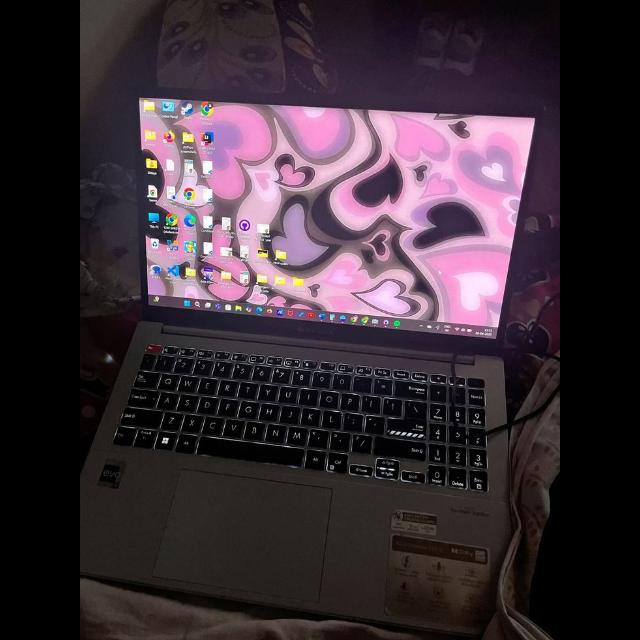laptop: (80, 88, 537, 635)
